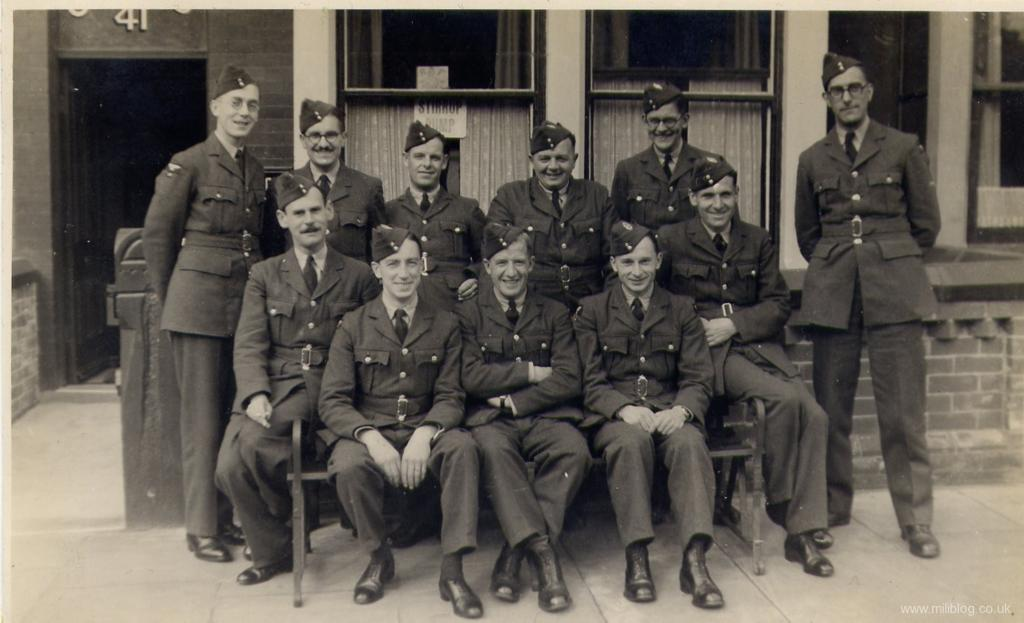face: (217, 84, 261, 137), (382, 240, 421, 299), (618, 236, 658, 292), (830, 67, 869, 124), (288, 188, 327, 245), (490, 241, 528, 297), (303, 114, 343, 165), (533, 140, 573, 188), (699, 175, 735, 227), (409, 138, 444, 187), (647, 104, 683, 150)
